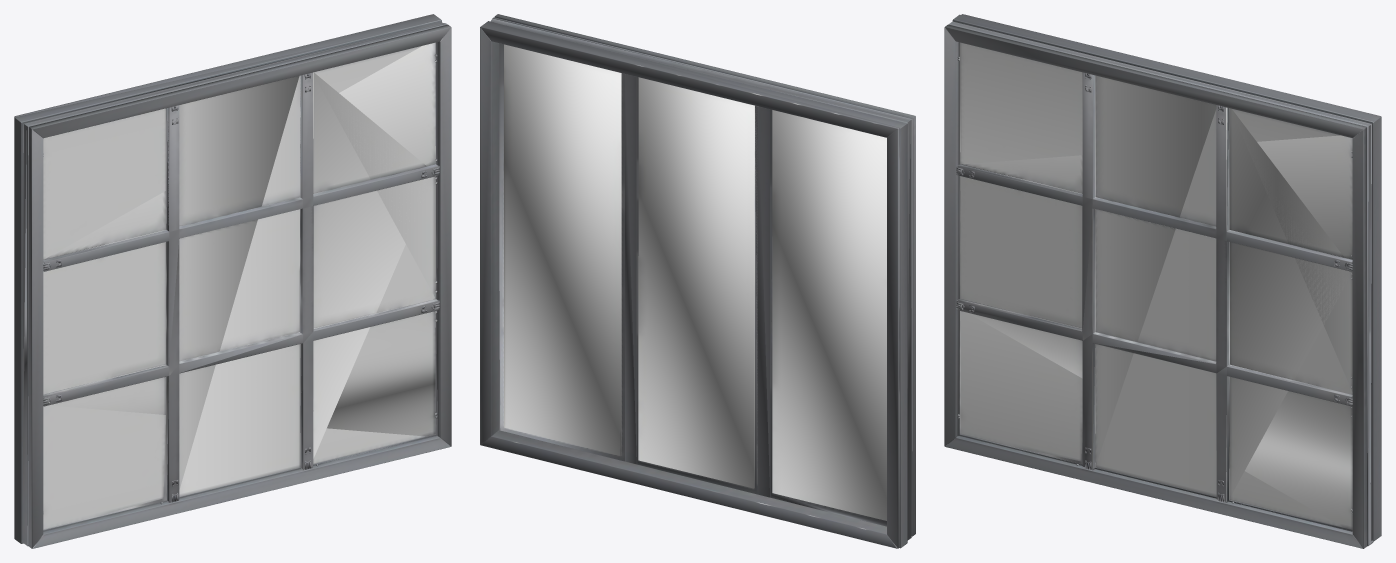
Rendered from tripo_convert_c8682ebc-78b3-4f4d-9e22-37e0727d3192.fbx.
3 renders of one model, left to right at view 1: azimuth 30°, elevation 25°; view 2: azimuth 150°, elevation 25°; view 3: azimuth 330°, elevation 25°, orthographic.
Visible parts, largest first — view 1: tripo_part_0, tripo_part_6, tripo_part_110, tripo_part_3, tripo_part_1, tripo_part_96, tripo_part_7, tripo_part_8, tripo_part_115, tripo_part_23, tripo_part_121, tripo_part_2 (+1 smaller); view 2: tripo_part_111, tripo_part_113, tripo_part_23, tripo_part_3, tripo_part_4, tripo_part_0, tripo_part_6; view 3: tripo_part_0, tripo_part_6, tripo_part_110, tripo_part_3, tripo_part_1, tripo_part_96, tripo_part_7, tripo_part_8, tripo_part_2, tripo_part_23, tripo_part_121, tripo_part_115.
Boxes of the visible parts, x1,y1,x2,y2 form: tripo_part_0: (22, 22, 447, 546); tripo_part_6: (29, 24, 451, 548); tripo_part_110: (43, 242, 435, 394); tripo_part_3: (14, 14, 441, 543); tripo_part_1: (303, 164, 439, 468); tripo_part_96: (179, 206, 313, 461); tripo_part_7: (43, 230, 169, 271); tripo_part_8: (43, 365, 169, 406); tripo_part_115: (166, 229, 179, 366); tripo_part_23: (22, 30, 405, 446); tripo_part_121: (179, 332, 302, 372); tripo_part_2: (169, 231, 179, 375); tripo_part_111: (499, 43, 624, 461); tripo_part_113: (636, 77, 757, 494); tripo_part_23: (770, 92, 907, 526); tripo_part_3: (480, 21, 907, 548); tripo_part_4: (621, 73, 772, 497); tripo_part_0: (490, 17, 912, 540); tripo_part_6: (494, 14, 915, 536); tripo_part_0: (948, 21, 1373, 546); tripo_part_6: (944, 24, 1366, 548); tripo_part_110: (960, 176, 1352, 394); tripo_part_3: (952, 14, 1381, 541); tripo_part_1: (1216, 112, 1352, 501); tripo_part_96: (1093, 239, 1226, 450); tripo_part_7: (956, 164, 1082, 205); tripo_part_8: (956, 299, 1082, 340); tripo_part_2: (1082, 203, 1095, 340); tripo_part_23: (953, 20, 1372, 542); tripo_part_121: (1092, 332, 1216, 363); tripo_part_115: (1082, 197, 1092, 331).
Size of the model in its own units: 0.9995 by 0.9575 by 0.0737.
Materials: 1 (1 with a texture image).
